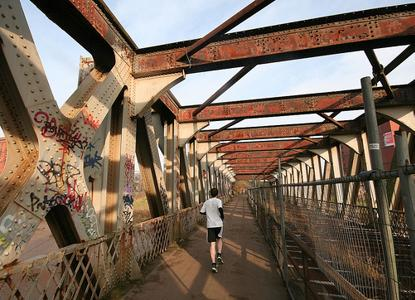person: (201, 189, 226, 274)
